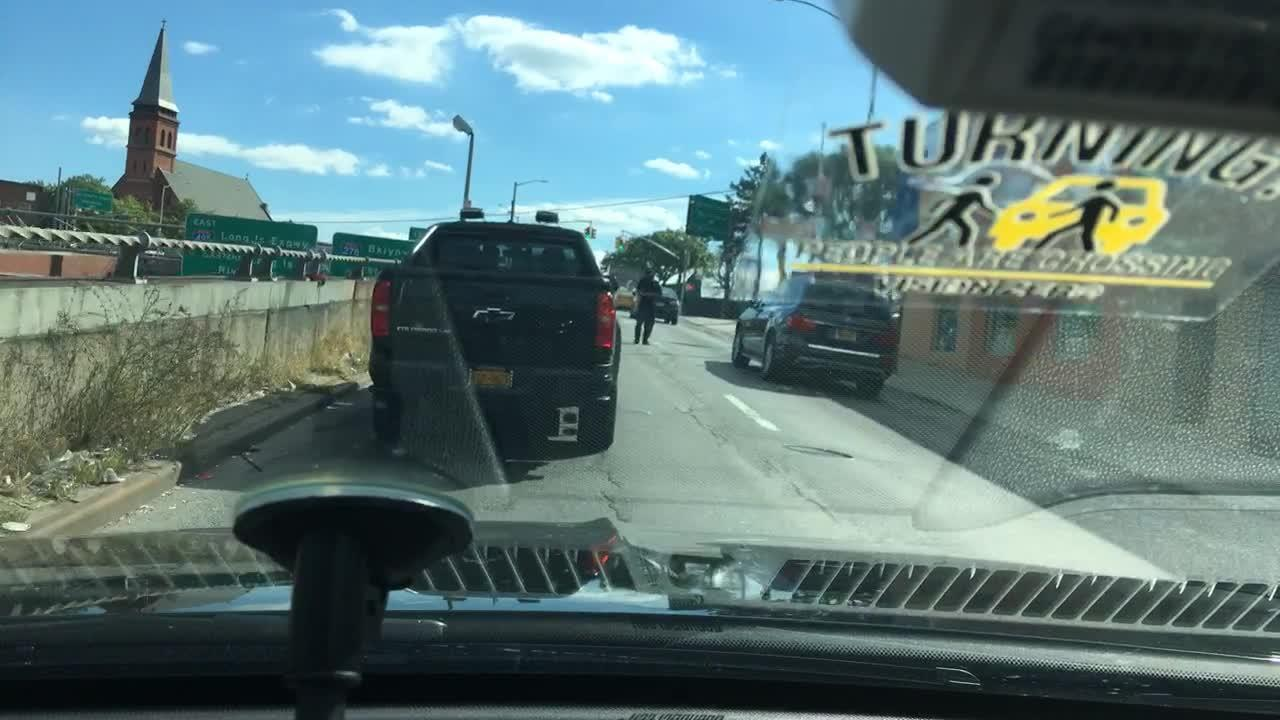chevrolet: (470, 301, 516, 329)
